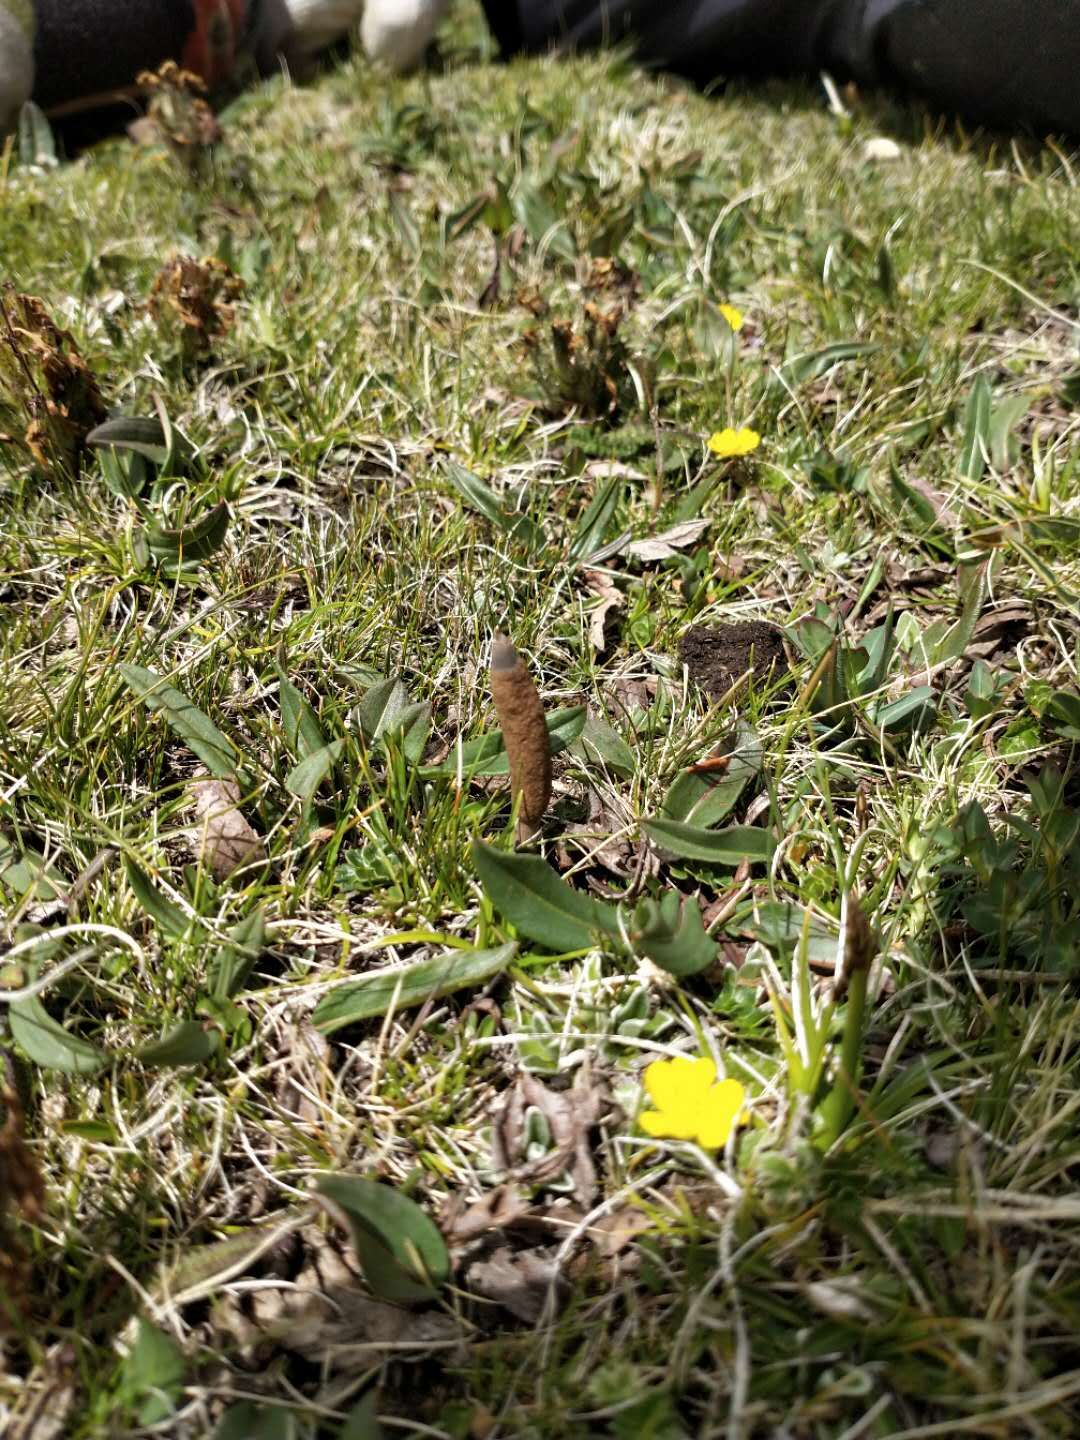cpf: (480, 639, 573, 839)
